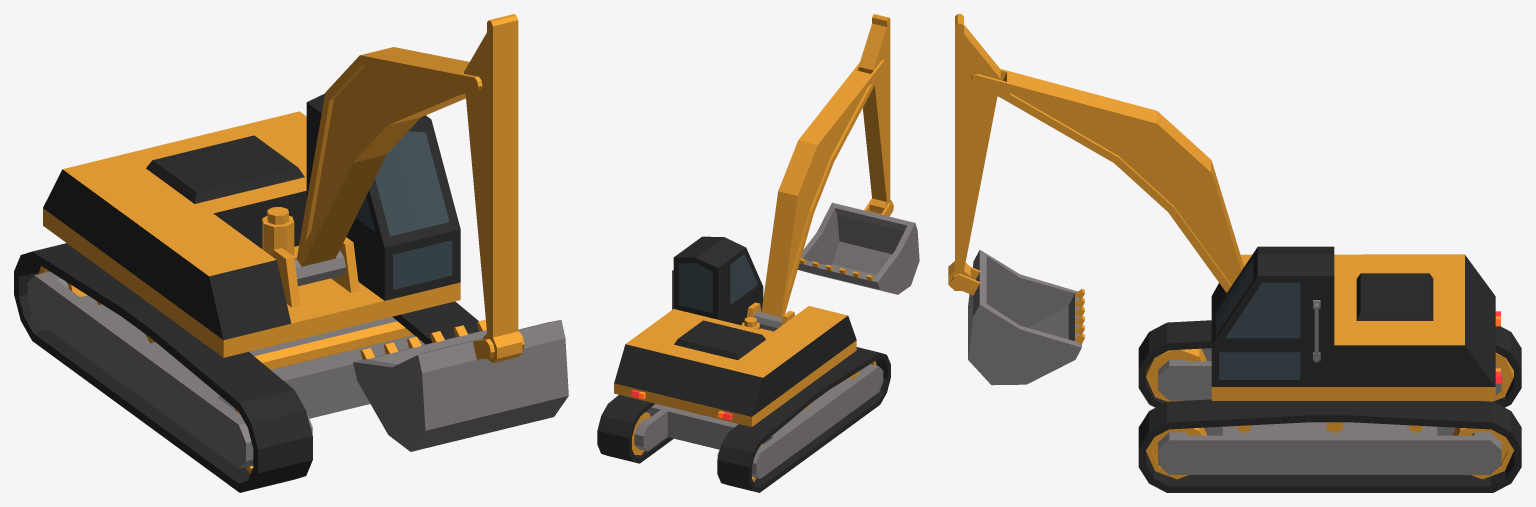
File: vehicles_excavator.fbx
3 renders of one model, left to right at view 1: azimuth 30°, elevation 25°; view 2: azimuth 150°, elevation 25°; view 3: azimuth 270°, elevation 25°, orthographic. The views are drawn at different scales.
Visible parts, largest first — view 1: excavator_base, excavator_belt, excavator_bucket, excavator_chassis, excavator_arm_base, excavator_arm_top, excavator_wheel_TF; view 2: excavator_base, excavator_arm_base, excavator_belt, excavator_bucket, excavator_chassis, excavator_arm_top; view 3: excavator_base, excavator_belt, excavator_chassis, excavator_arm_base, excavator_bucket, excavator_arm_top, excavator_wheel_F, excavator_wheel_B.
Boxes of the visible parts, x1,y1,x2,y2 form: excavator_base: [43, 93, 460, 357]; excavator_belt: [14, 243, 478, 492]; excavator_bucket: [353, 319, 568, 451]; excavator_chassis: [27, 271, 424, 468]; excavator_arm_base: [294, 47, 482, 286]; excavator_arm_top: [463, 14, 522, 363]; excavator_wheel_TF: [254, 321, 413, 369]; excavator_base: [614, 236, 856, 426]; excavator_arm_base: [753, 59, 886, 331]; excavator_belt: [597, 347, 890, 492]; excavator_bucket: [797, 198, 919, 294]; excavator_chassis: [634, 364, 883, 478]; excavator_arm_top: [858, 14, 892, 214]; excavator_base: [1211, 246, 1500, 400]; excavator_belt: [1138, 320, 1521, 492]; excavator_chassis: [1158, 348, 1501, 474]; excavator_arm_base: [971, 69, 1243, 292]; excavator_bucket: [951, 250, 1084, 385]; excavator_arm_top: [948, 14, 1000, 290]; excavator_wheel_F: [1146, 348, 1207, 479]; excavator_wheel_B: [1452, 353, 1513, 479].
Size of the model in its own units: 79.49 by 157 by 192.
